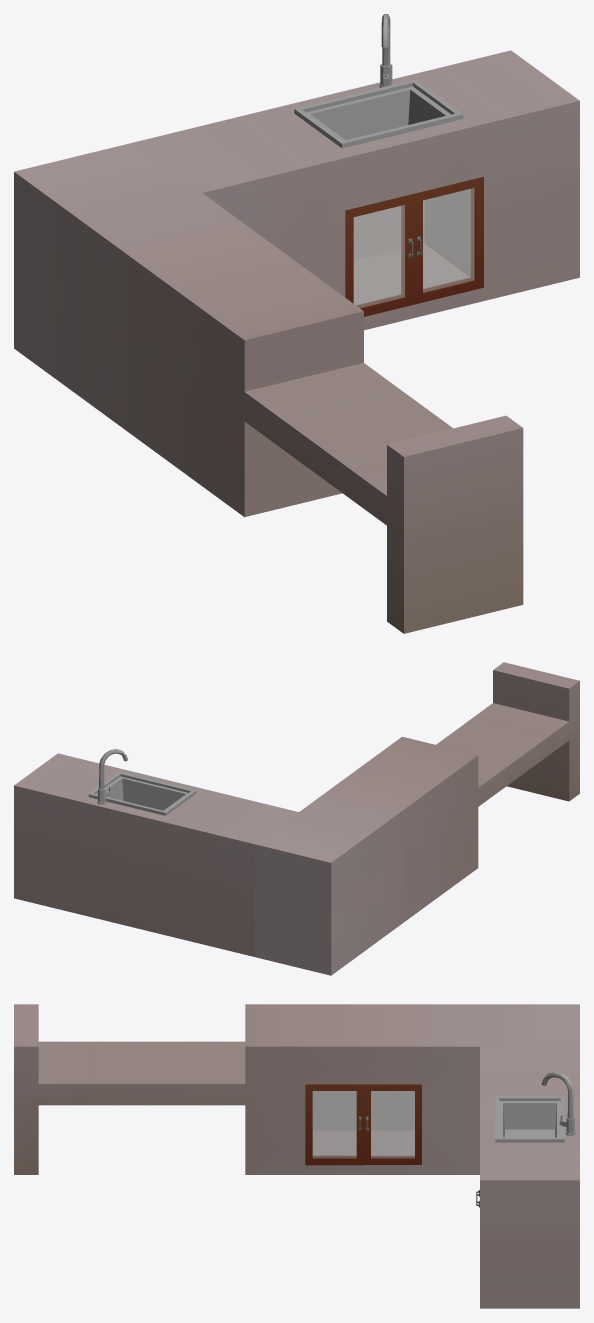
Rendered from SM_Counter.fbx.
The picture shows the model from 3 angles, top to bottom: view 1: azimuth 30°, elevation 25°; view 2: azimuth 150°, elevation 25°; view 3: azimuth 270°, elevation 25°; orthographic projection. The views are drawn at different scales.
Visible parts, largest first — view 1: Cube.006, Cube.018, Cube.005; view 2: Cube.006; view 3: Cube.006, Cube.001, Cube.022.
Part boxes in pixels (<box>): Cube.006: <box>14,14,579,633</box>; Cube.018: <box>414,176,483,304</box>; Cube.005: <box>345,194,414,316</box>; Cube.006: <box>14,662,579,975</box>; Cube.006: <box>14,1004,579,1308</box>; Cube.001: <box>305,1084,363,1165</box>; Cube.022: <box>363,1084,421,1164</box>.
Size of the model in its own units: 2.81 by 1.38 by 3.81.
